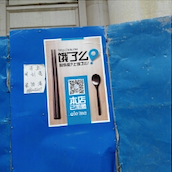ImgView: (1, 1, 171, 171)
